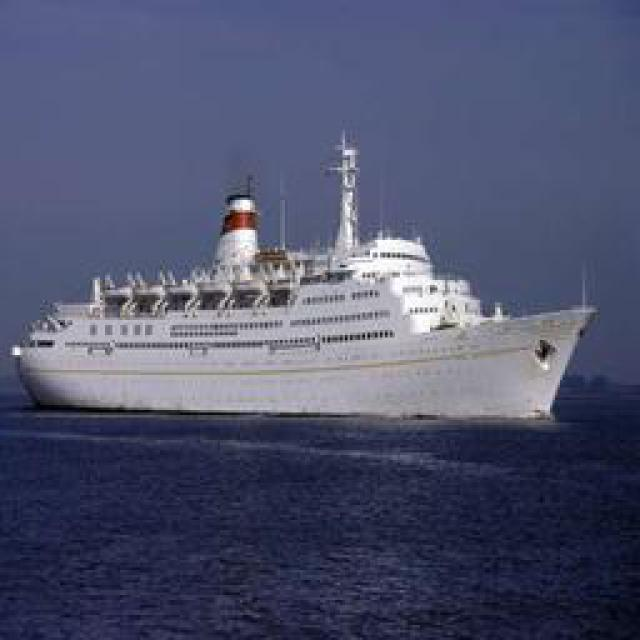Ship: (21, 139, 596, 412)
